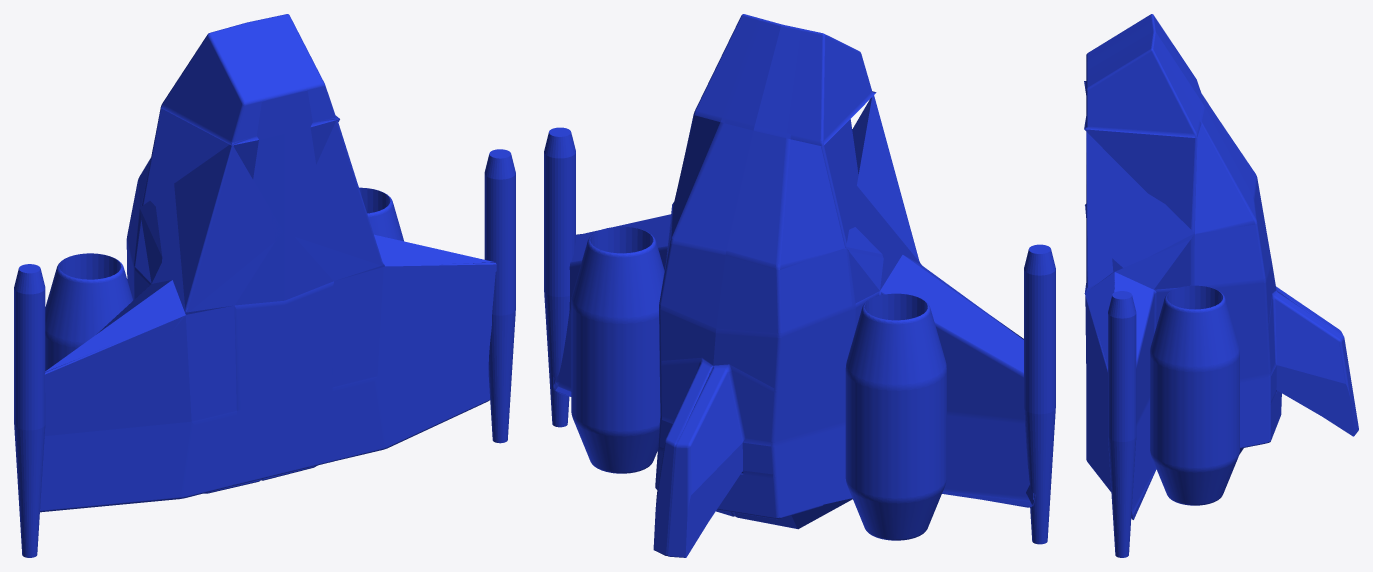
The model's file is spaceship_better.fbx.
3 renders of one model, left to right at view 1: azimuth 30°, elevation 25°; view 2: azimuth 150°, elevation 25°; view 3: azimuth 270°, elevation 25°, orthographic. The views are drawn at different scales.
Parts seen in each view (by area): view 1: Cube; view 2: Cube; view 3: Cube.
Boxes of the visible parts, left/top/right/bottom form: Cube: left=14, top=14, right=515, bottom=557; Cube: left=544, top=14, right=1055, bottom=557; Cube: left=1084, top=14, right=1358, bottom=557.
Size of the model in its own units: 980 by 869 by 516.
